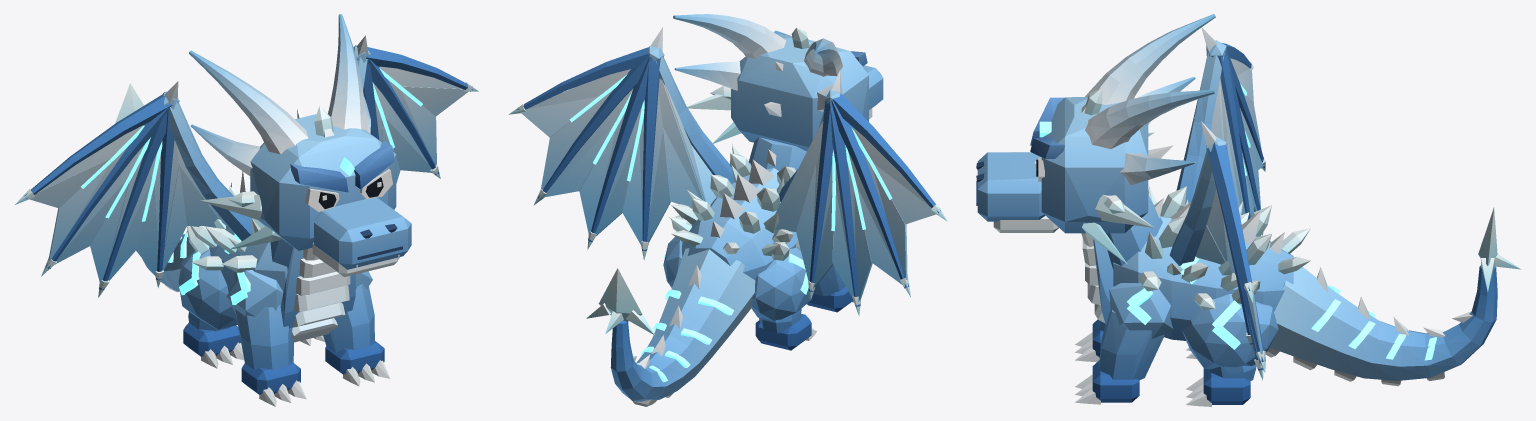
The model's file is FrostDragon.glb.
3 renders of one model, left to right at view 1: azimuth 30°, elevation 25°; view 2: azimuth 150°, elevation 25°; view 3: azimuth 270°, elevation 25°, orthographic. The views are drawn at different scales.
Visible parts, largest first — view 1: FrostDragon; view 2: FrostDragon; view 3: FrostDragon.
Boxes of the visible parts, x1,y1,x2,y2 form: FrostDragon: (15,14,478,406); FrostDragon: (509,14,947,406); FrostDragon: (976,14,1521,406).
Bounding box in the file's own units: 2 × 1.32 × 1.97.
1 material, 1 textured.
